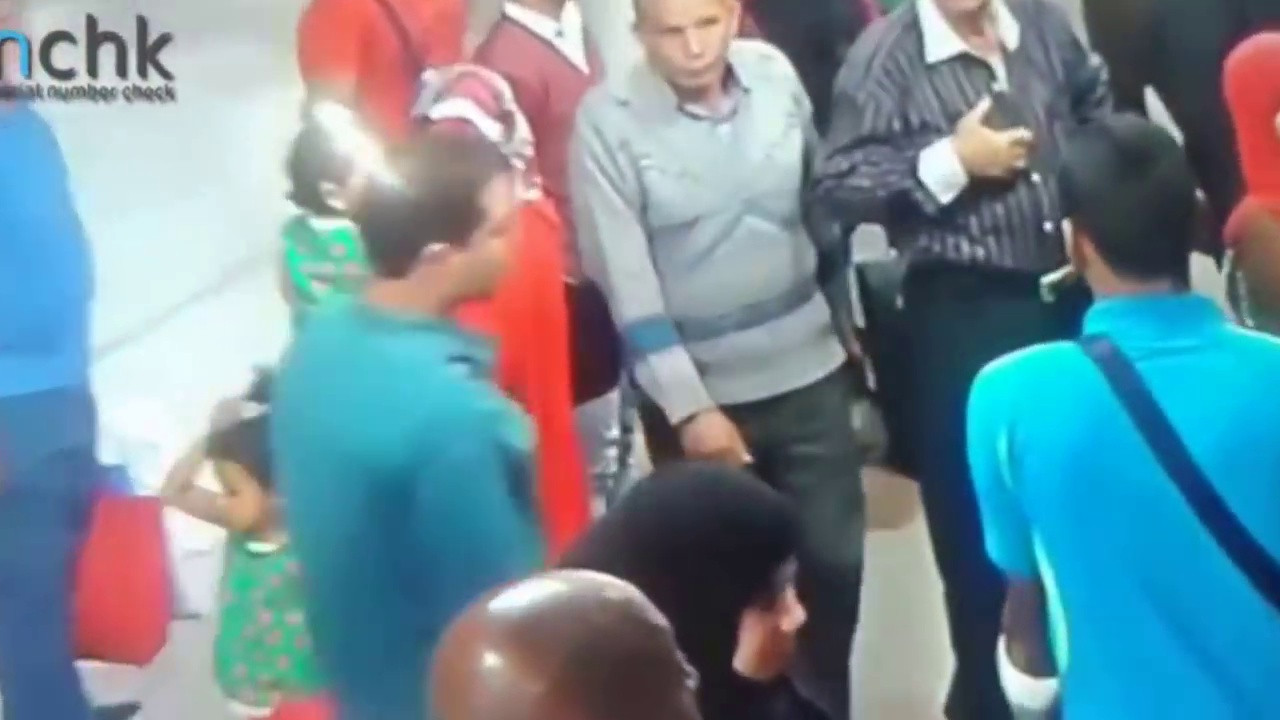face: (639, 2, 727, 90), (746, 569, 809, 683), (469, 174, 515, 303)
